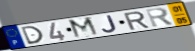4: (49, 21, 67, 41)
D: (20, 25, 45, 46)
J: (101, 15, 118, 34)
M: (66, 16, 102, 39)
R: (144, 6, 176, 29), (123, 11, 152, 32)
